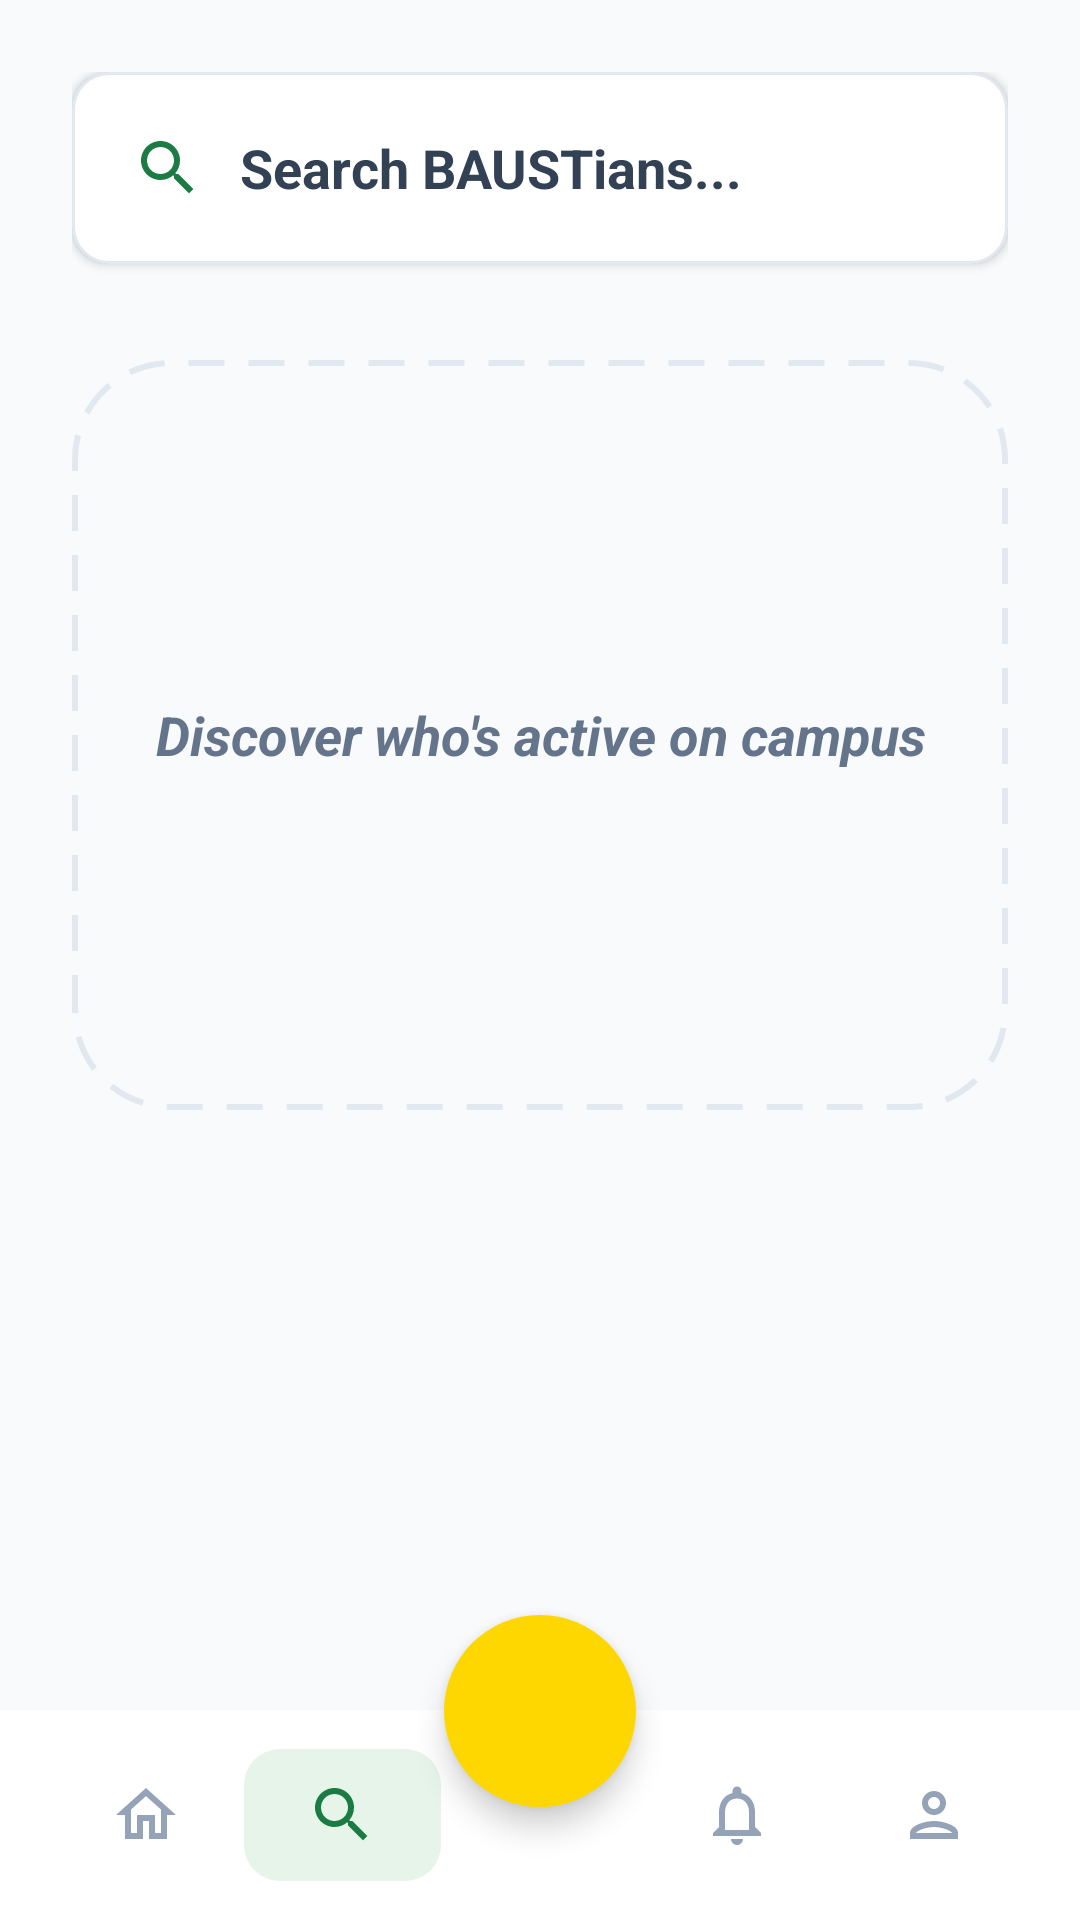

Screen size 1080px x 1920px. Icon name, then its box in pixels as box=[x1, y1, x2, y2]:
Home: box=[116, 1788, 176, 1839]
Notifications: box=[713, 1786, 761, 1845]
Profile: box=[910, 1791, 958, 1839]
